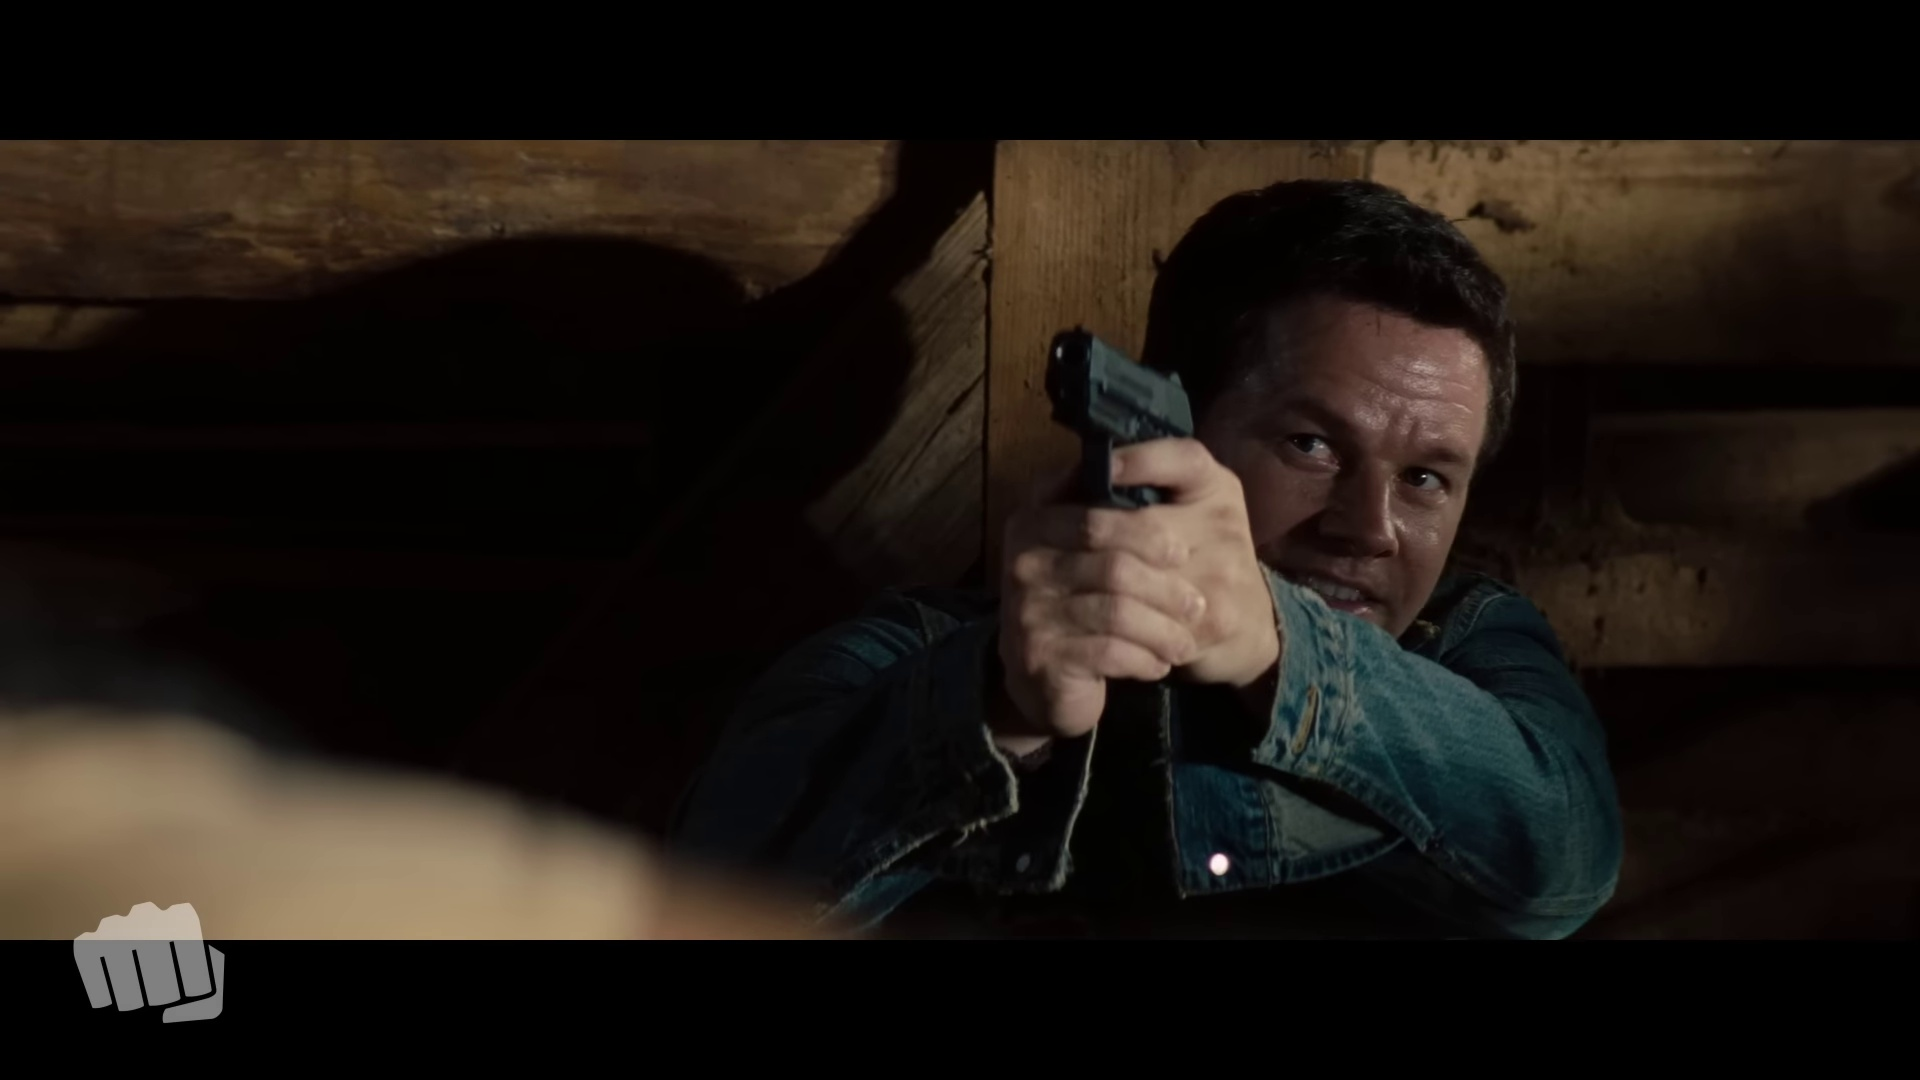gun: (1039, 316, 1215, 531)
p_w_gun: (711, 178, 1635, 945)
